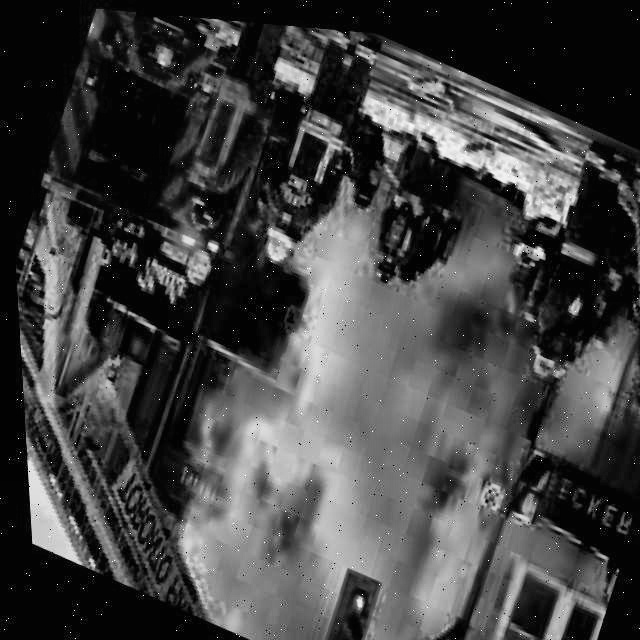Smoke: (147, 106, 592, 640)
